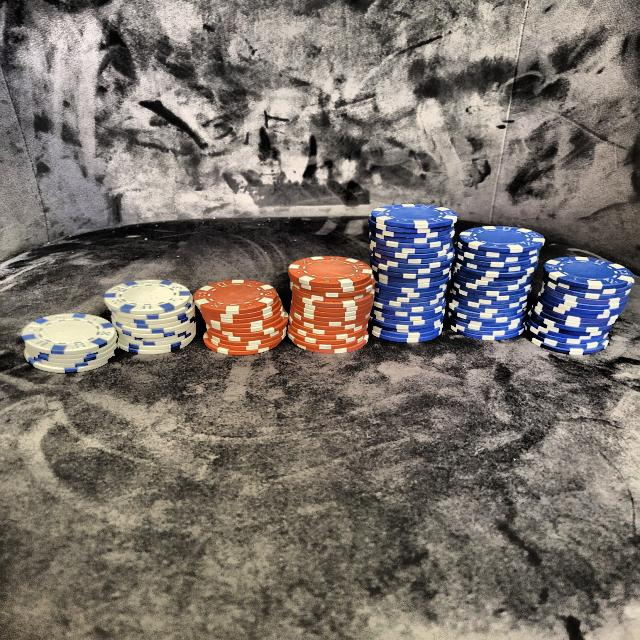Chip: (368, 199, 462, 348), (453, 216, 552, 346), (531, 239, 631, 361), (285, 243, 376, 357), (98, 269, 207, 364), (21, 296, 127, 385), (195, 271, 292, 361)
